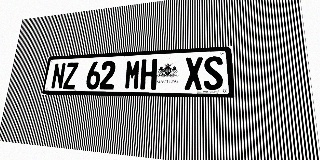2: (99, 61, 116, 89)
6: (85, 61, 102, 89)
H: (140, 59, 157, 90)
M: (124, 59, 141, 90)
N: (51, 63, 66, 89)
S: (204, 56, 223, 90)
X: (185, 57, 203, 90)
Z: (63, 62, 79, 89)
